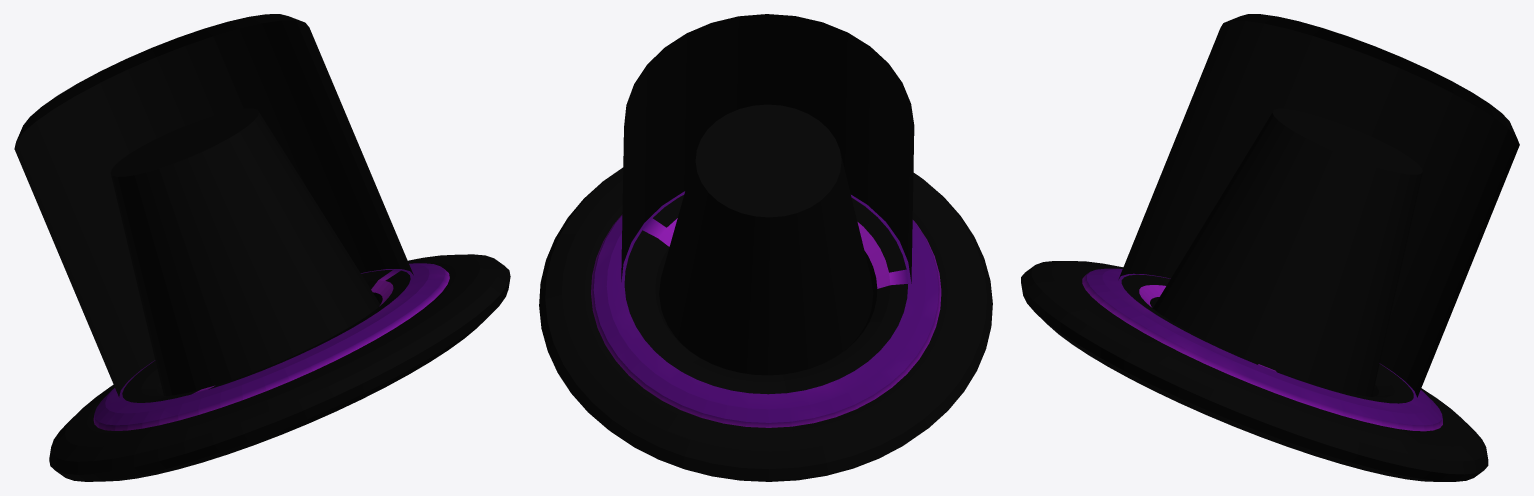
File: sombrero.gltf
3 views of the same model, side by side, from view 1: azimuth 30°, elevation 25°; view 2: azimuth 150°, elevation 25°; view 3: azimuth 270°, elevation 25° (orthographic). The views are drawn at different scales.
Visible parts, largest first — view 1: Rosca; view 2: Rosca; view 3: Rosca.
Part boxes in pixels (x1,y1,x2,y2): Rosca: (14,14,510,481); Rosca: (539,14,992,481); Rosca: (1021,14,1519,481).
Size of the model in its own units: 3.04 by 2.94 by 3.1.
